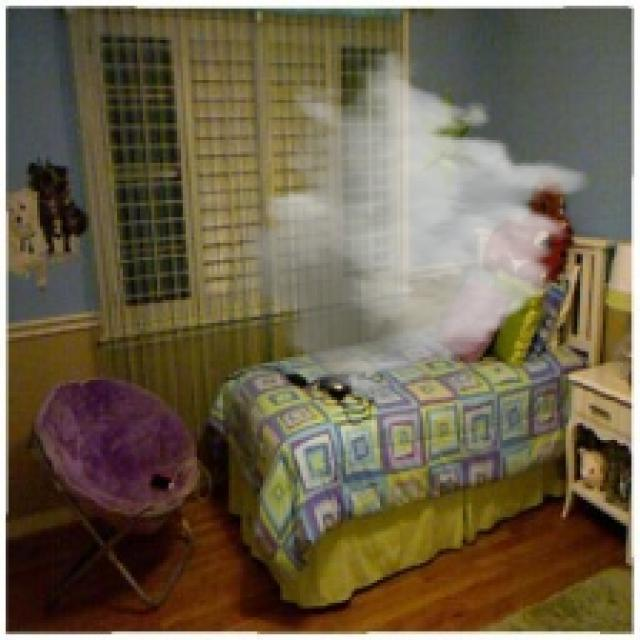Smoke: (219, 48, 592, 400)
